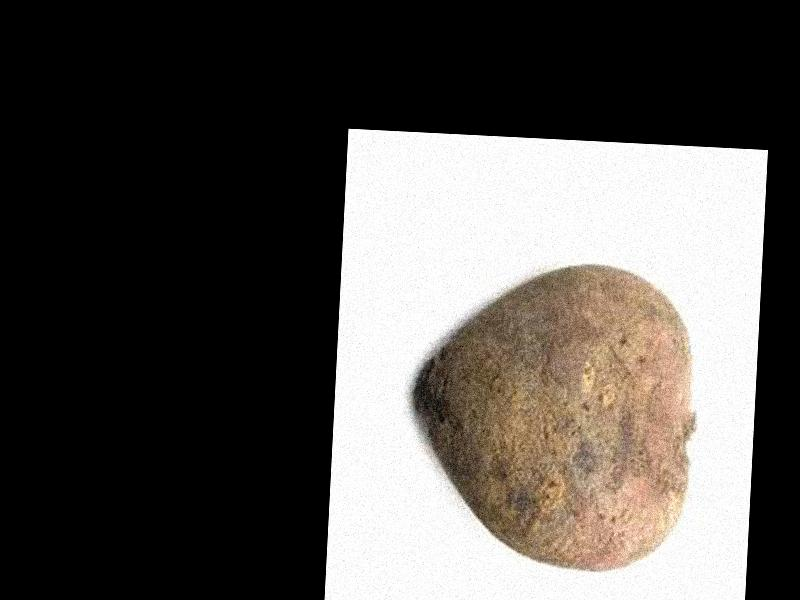Beet: (406, 254, 700, 577)
